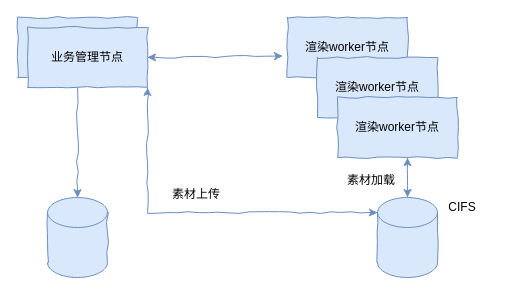
The diagram is 510 pixels wide and 295 high, and some of its shapes have lost their labels. Each missing label, with the centre of its shape:
共享存储: point 407,237
数据库: point 77,237
